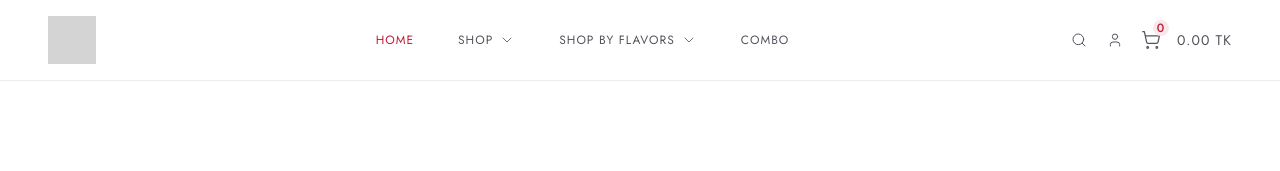
Scenario: SiteHeader › opens the search panel when the search icon is clicked
Click the button named "open search": (1079, 40) [1069, 30, 1089, 50]
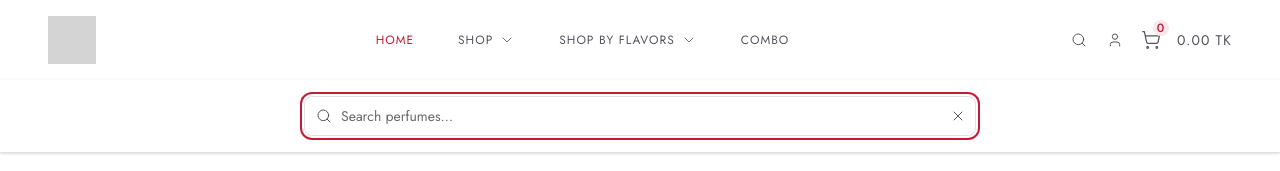
Expected: the search field named "search products" is shown, [304, 96, 976, 136]
